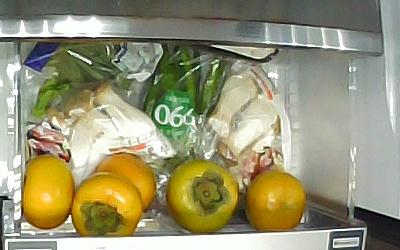persimmon: (168, 160, 238, 232), (73, 173, 142, 237), (244, 168, 308, 232), (22, 155, 74, 229), (95, 153, 154, 212)
